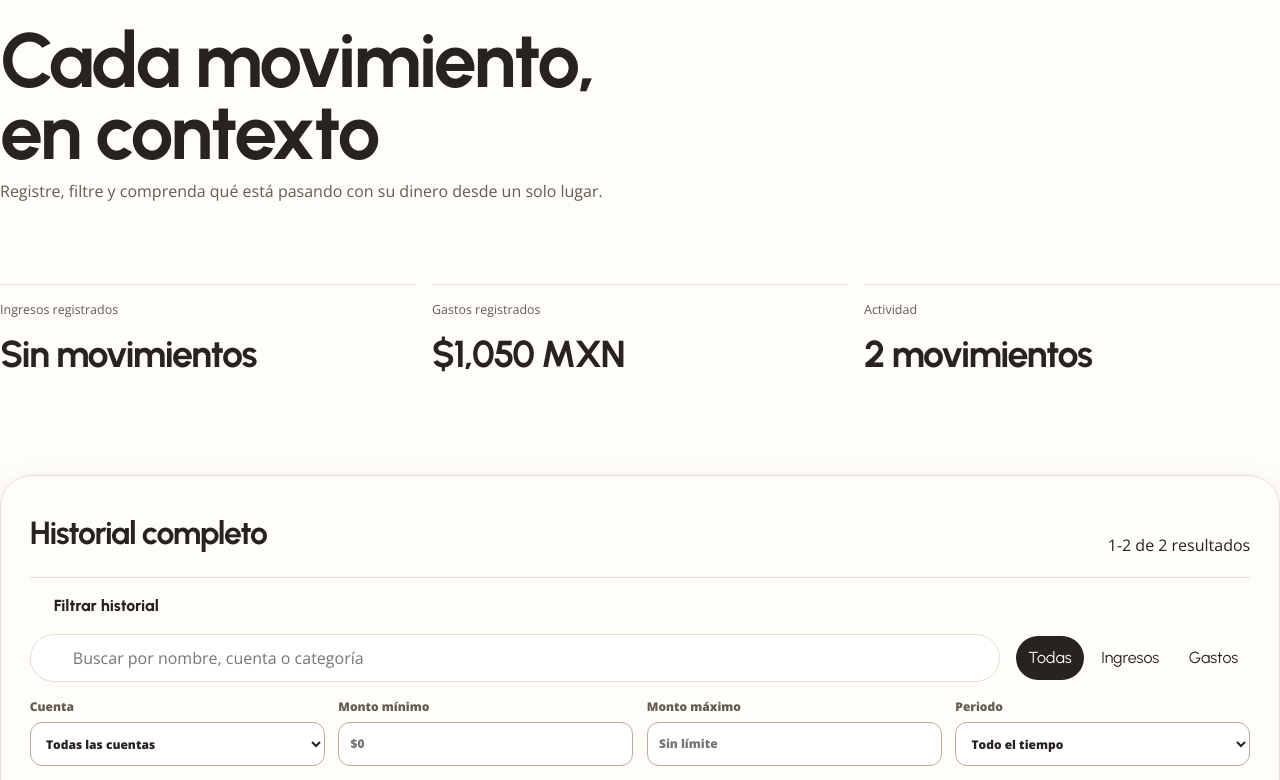
Test case: transaction history filters › supports custom date ranges and all-time reset
The width and height of the screenshot is (1280, 780).
Select "Rango de fechas" in the dropdown labelled "Periodo" at (1103, 744), box [955,722,1250,766]
(page scrolled)
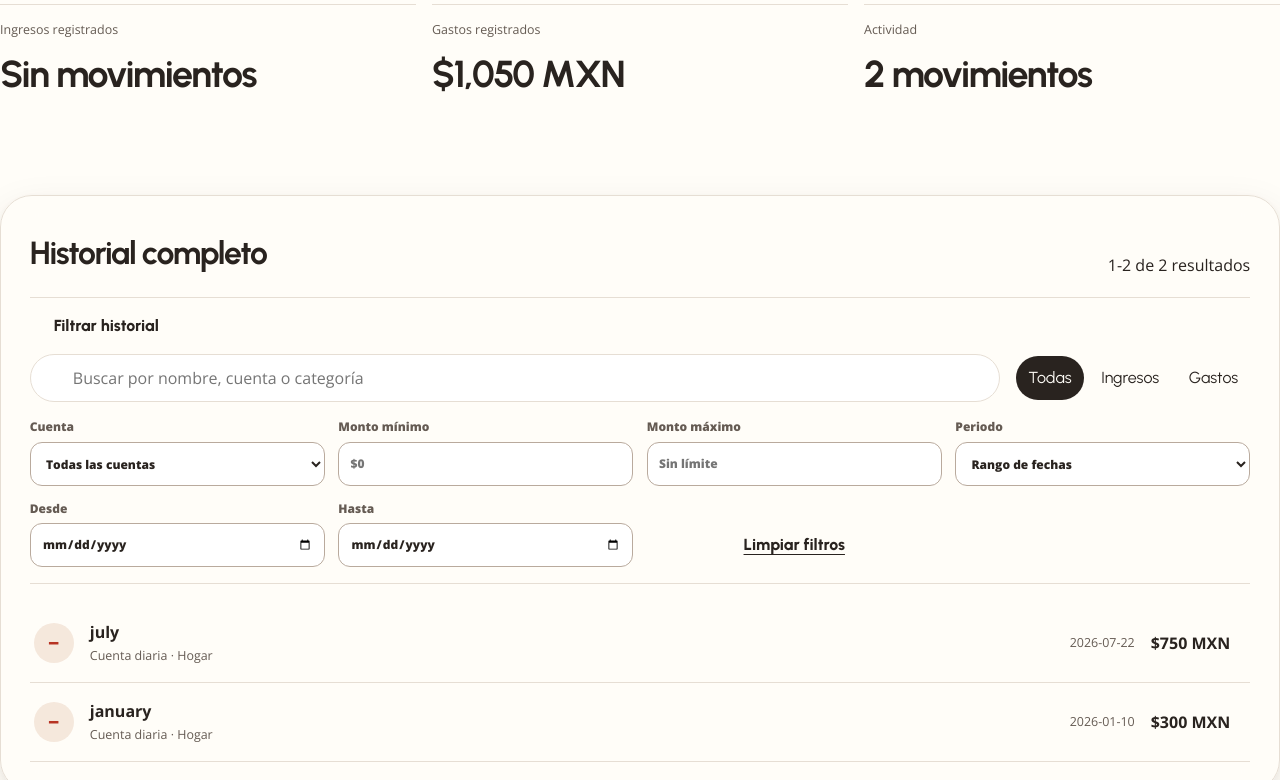
Type "2026-07-01" into the date field labelled "Desde".
click(177, 545); type("2026-07-01")  # box [30,523,325,567]
(page scrolled)
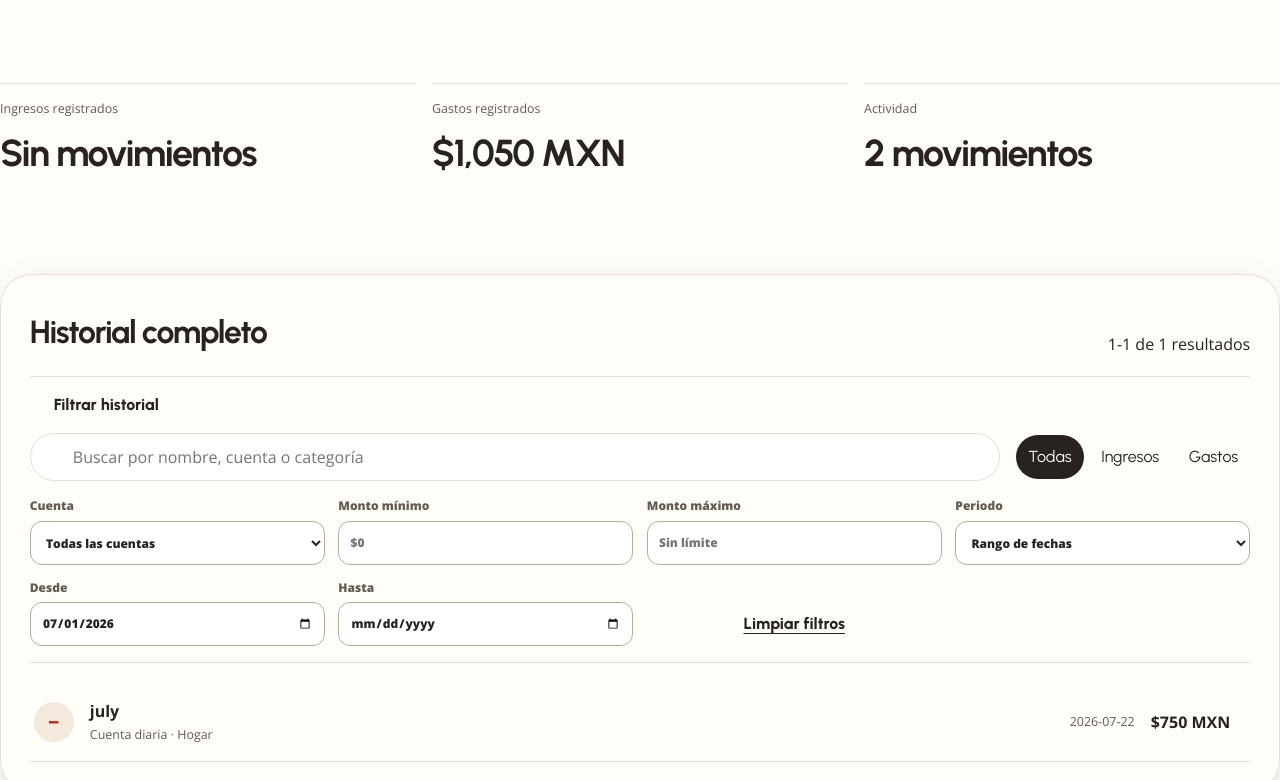
Type "2026-07-31" into the date field labelled "Hasta".
click(486, 624); type("2026-07-31")  # box [338,602,633,646]
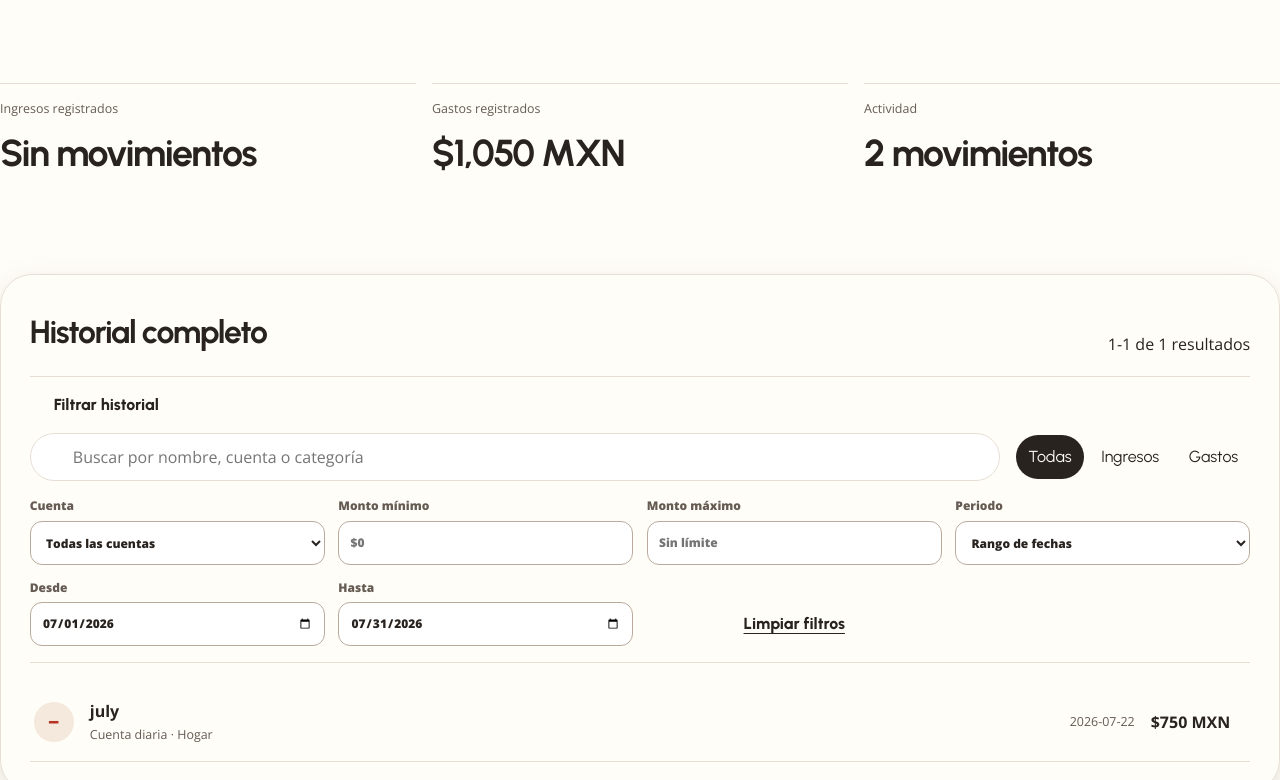
Expected: the text "july" is shown, [90,700,119,722]
Expected: the text "january" is not shown
Type "july" into the field with placeholder "Buscar por nombre, cuenta o categoría".
click(527, 457); type("july")  # box [71,444,983,470]
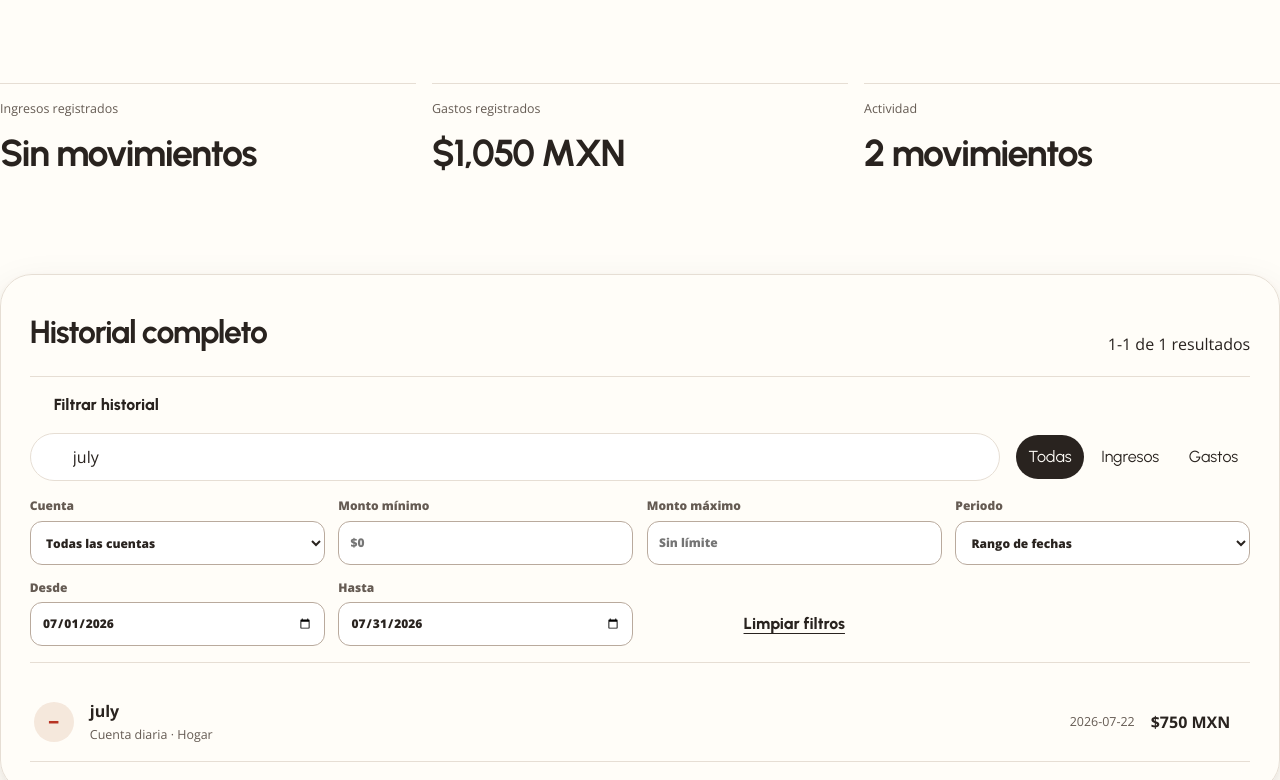
Click the button "Ingresos".
click(1130, 457)  # box [1089,435,1171,479]
(page scrolled)
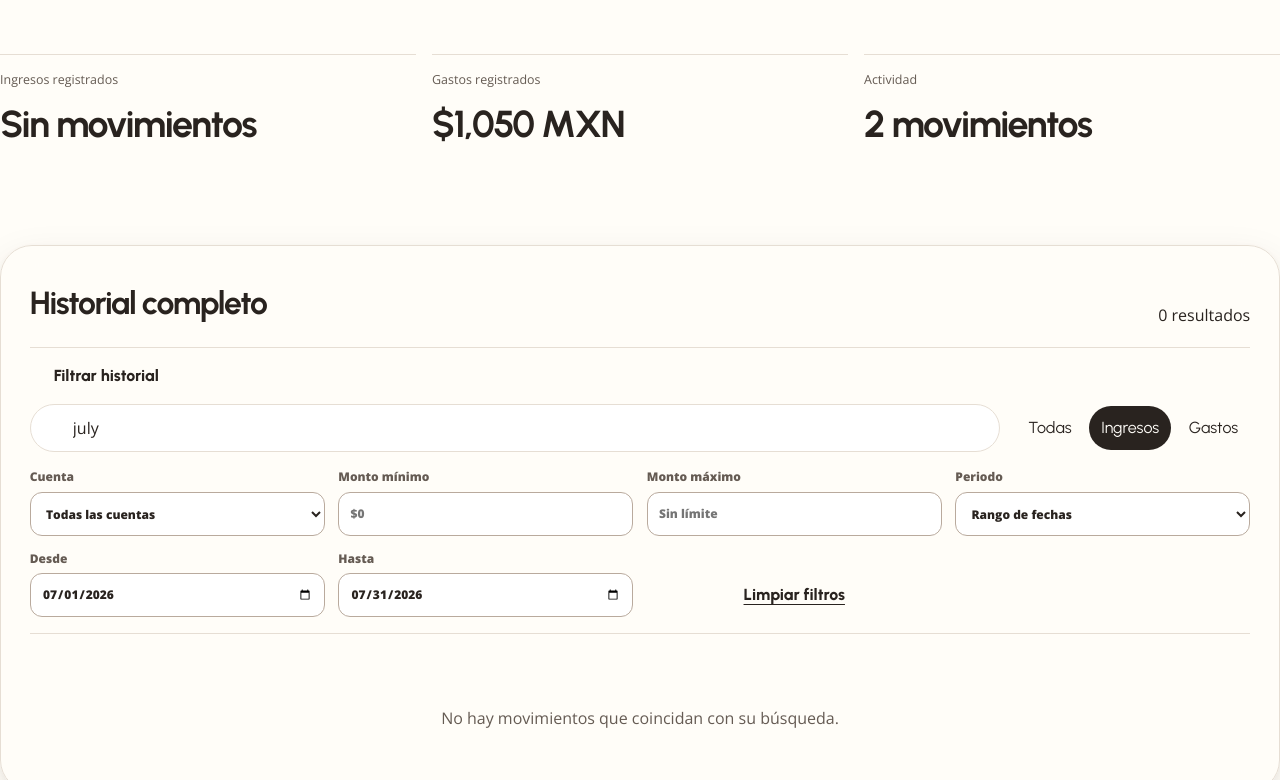
Click the button "Limpiar filtros".
click(794, 595)  # box [647,573,942,617]
(page scrolled)
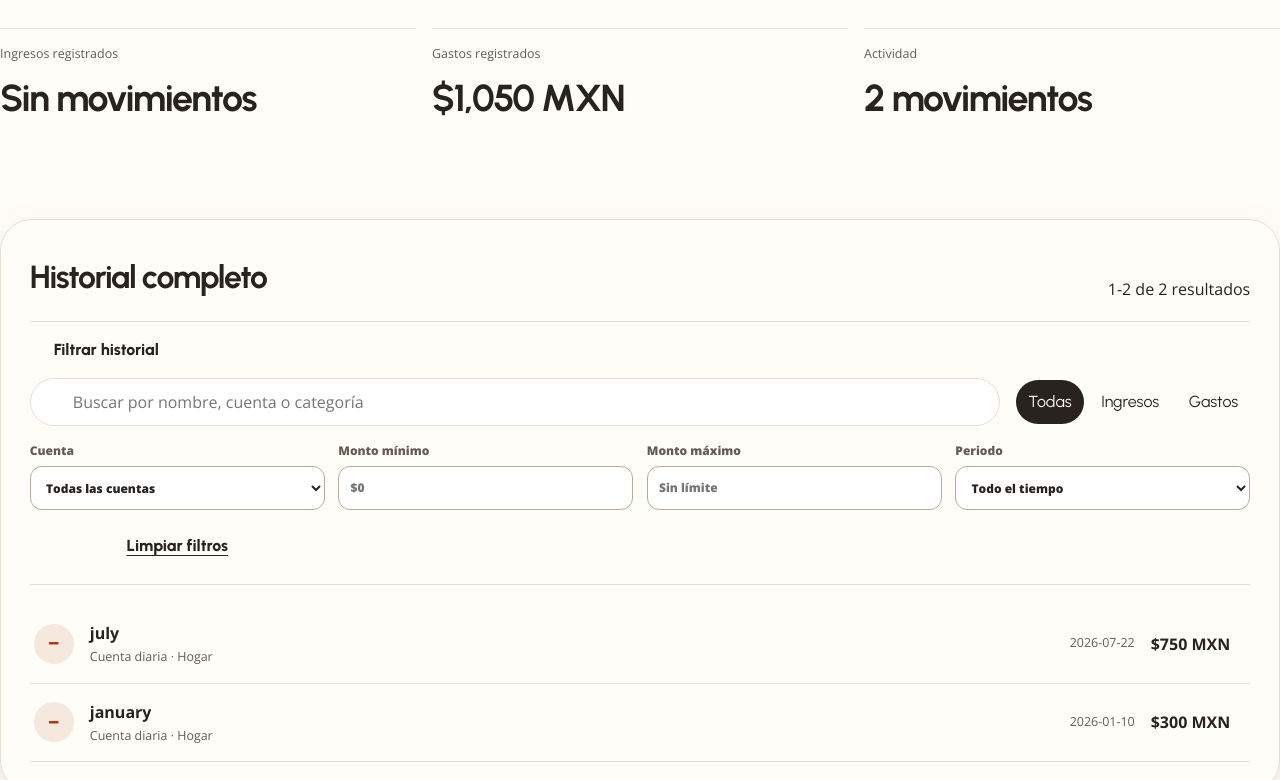
Now the text "january" is shown, box [90,700,151,722]
Now the field with placeholder "Buscar por nombre, cuenta o categoría" is empty, box [71,389,983,415]
